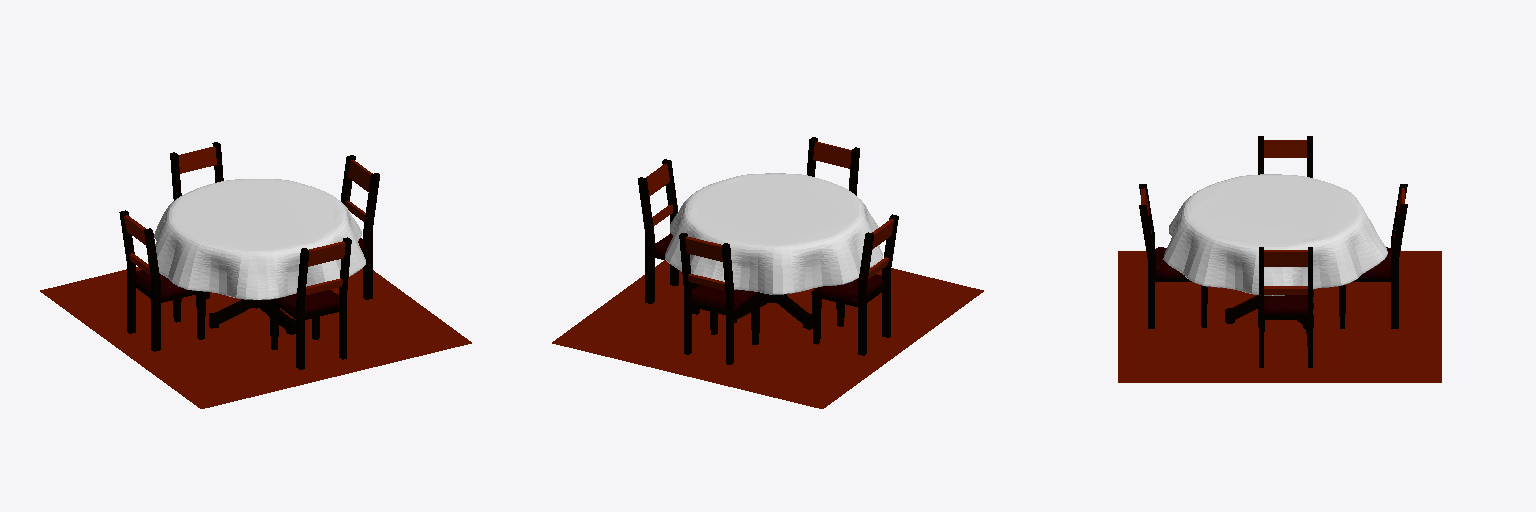
File: table.obj
3 views of the same model, side by side, from view 1: azimuth 30°, elevation 25°; view 2: azimuth 150°, elevation 25°; view 3: azimuth 270°, elevation 25° (orthographic).
Parts seen in each view (by area): view 1: Plane001_Меш.001; view 2: Plane001_Меш.001; view 3: Plane001_Меш.001.
Part boxes in pixels (bbox=[...]): Plane001_Меш.001: bbox=[40, 142, 471, 408]; Plane001_Меш.001: bbox=[552, 137, 983, 408]; Plane001_Меш.001: bbox=[1118, 136, 1441, 382].
Size of the model in its own units: 4.25 by 1.83 by 4.39.